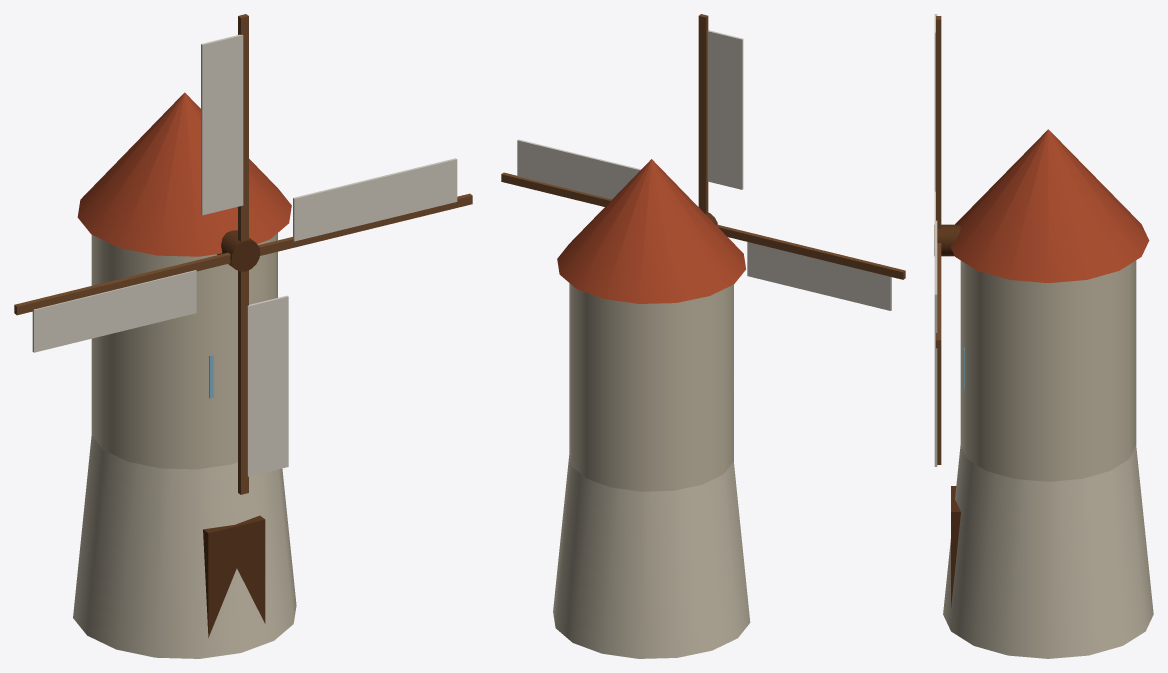
The model's file is windmill.glb.
3 renders of one model, left to right at view 1: azimuth 30°, elevation 25°; view 2: azimuth 150°, elevation 25°; view 3: azimuth 270°, elevation 25°, orthographic. The views are drawn at different scales.
Visible parts, largest first — view 1: part_000, part_001; view 2: part_000, part_001; view 3: part_000, part_001.
Boxes of the visible parts, x1,y1,x2,y2 form: part_000: (73, 92, 296, 658); part_001: (14, 14, 472, 494); part_000: (553, 159, 750, 658); part_001: (501, 14, 905, 310); part_000: (943, 129, 1153, 658); part_001: (934, 14, 960, 466).
Bounding box in the file's own units: 5.6 × 7.5 × 2.5.
